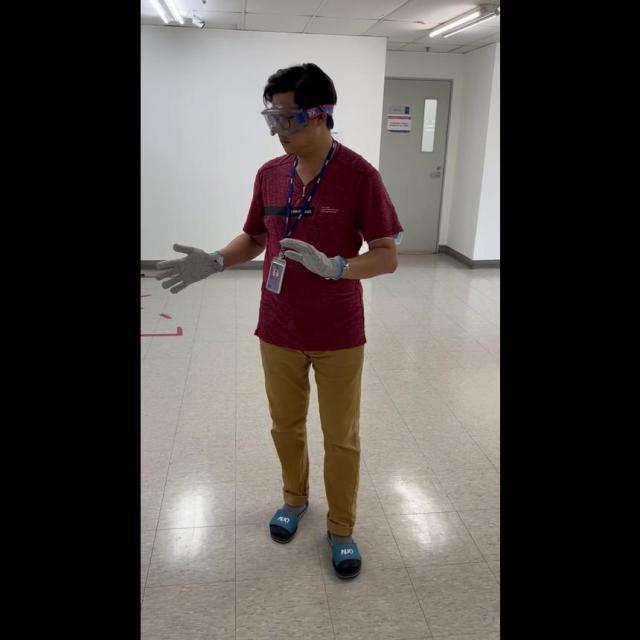gloved_hand: (270, 229, 349, 282), (156, 238, 223, 295)
